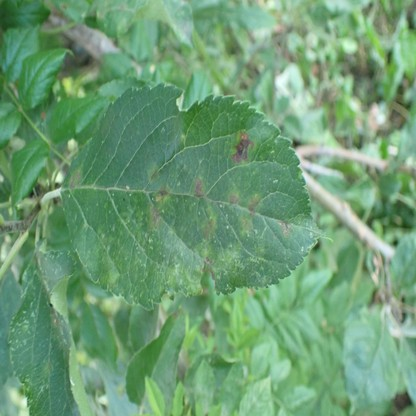powdery_mildew: (176, 21, 192, 41)
scab: (161, 261, 201, 294), (239, 191, 261, 231), (231, 130, 256, 165), (216, 247, 241, 276), (194, 243, 213, 273), (200, 215, 218, 242), (100, 263, 117, 287), (68, 165, 83, 191), (192, 175, 206, 198), (149, 203, 160, 230), (42, 359, 53, 383), (156, 185, 170, 202), (278, 219, 291, 237), (148, 163, 159, 183), (228, 190, 239, 207)
